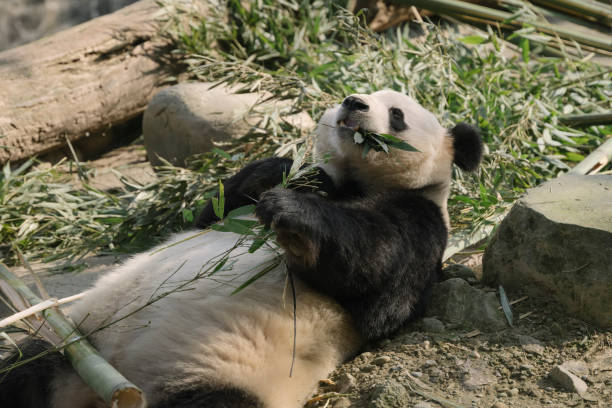panda: (323, 77, 518, 231)
